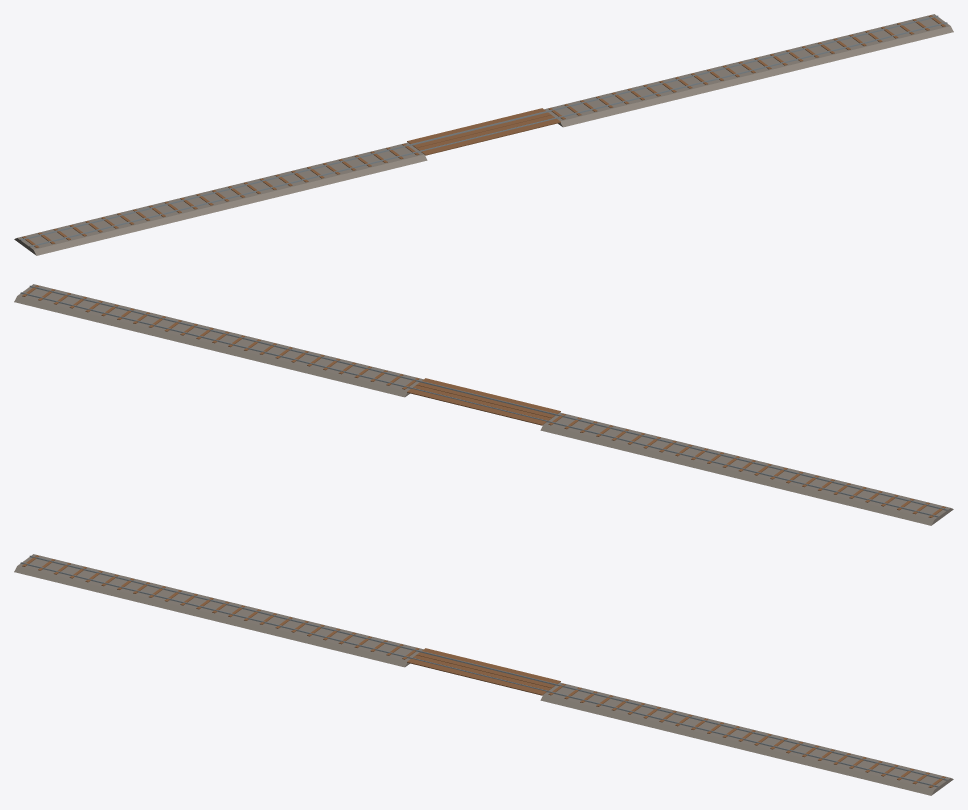
The model's file is sm_env_rail_track.glb.
The picture shows the model from 3 angles, top to bottom: view 1: azimuth 30°, elevation 25°; view 2: azimuth 150°, elevation 25°; view 3: azimuth 330°, elevation 25°; orthographic projection.
Visible parts, largest first — view 1: Ballast, Ballast.001, Rail.001, Rail, CrossingPlank.002, CrossingPlank.003, CrossingPlank.001, CrossingPlank; view 2: Ballast, Ballast.001, Rail, Rail.001, CrossingPlank.003, CrossingPlank.002, CrossingPlank, CrossingPlank.001; view 3: Ballast.001, Ballast, Rail.001, Rail, CrossingPlank.002, CrossingPlank.003, CrossingPlank.001, CrossingPlank.
Boxes of the visible parts, box(x1,y1,x2,y2) form: Ballast: box(14, 142, 427, 255); Ballast.001: box(544, 14, 953, 127); Rail.001: box(20, 15, 938, 240); Rail: box(29, 22, 947, 247); CrossingPlank.002: box(421, 118, 560, 155); CrossingPlank.003: box(407, 108, 545, 143); CrossingPlank.001: box(412, 112, 551, 147); CrossingPlank: box(416, 115, 554, 150); Ballast: box(540, 412, 953, 525); Ballast.001: box(14, 284, 423, 397); Rail: box(29, 285, 947, 510); Rail.001: box(20, 292, 938, 517); CrossingPlank.003: box(407, 388, 546, 425); CrossingPlank.002: box(422, 378, 560, 413); CrossingPlank: box(416, 382, 555, 417); CrossingPlank.001: box(413, 385, 551, 420); Ballast.001: box(540, 682, 953, 795); Ballast: box(14, 554, 423, 667); Rail.001: box(29, 555, 947, 780); Rail: box(20, 562, 938, 787); CrossingPlank.002: box(407, 658, 546, 695); CrossingPlank.003: box(422, 648, 560, 683); CrossingPlank.001: box(416, 652, 555, 687); CrossingPlank: box(413, 655, 551, 690).
Size of the model in its own units: 84 by 0.42 by 3.6.
